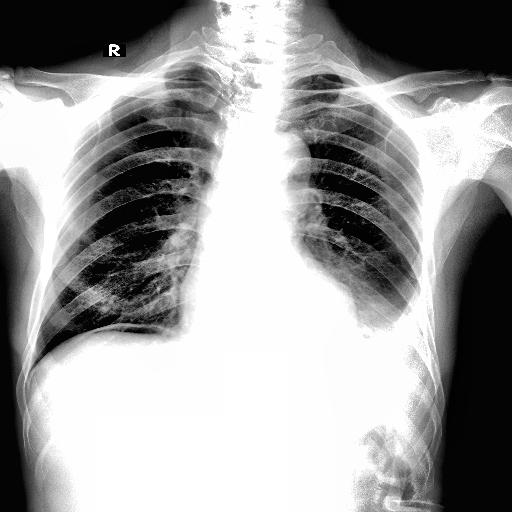10- Pleural effusion: (357, 274, 443, 390), (350, 278, 434, 357), (366, 280, 433, 364)
7- Lung Opacity: (321, 267, 407, 348), (352, 276, 408, 328)
9- Other lesion: (88, 318, 172, 344), (88, 318, 174, 342), (84, 322, 170, 346)
